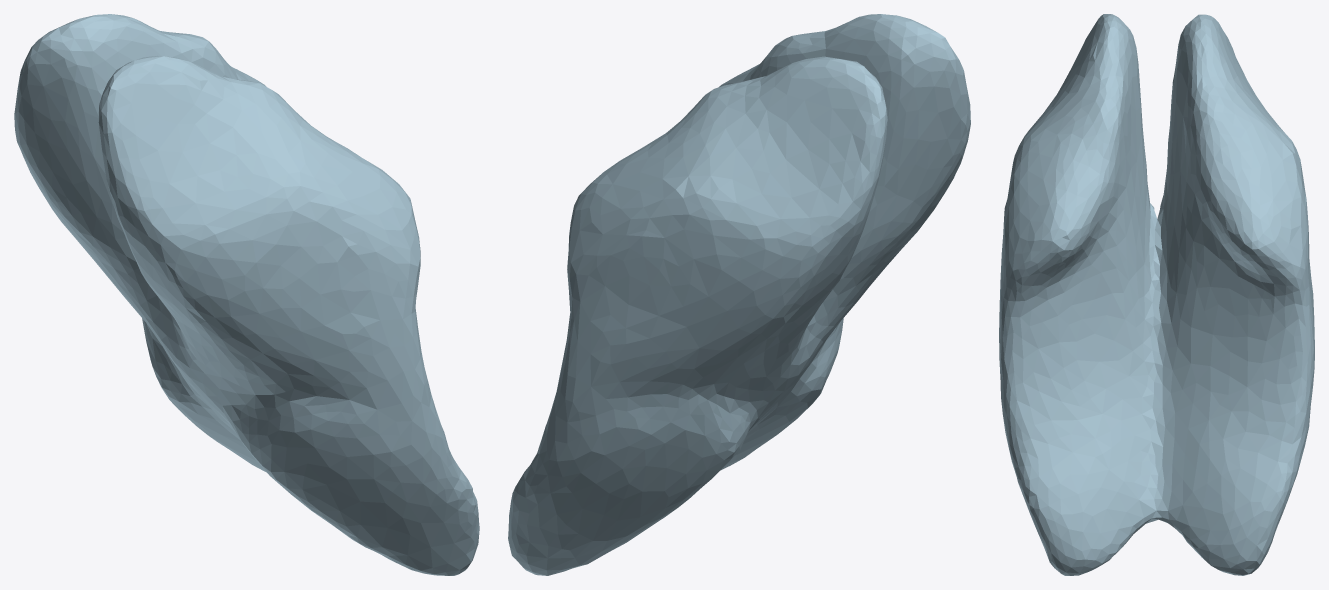
3 renders of one model, left to right at view 1: azimuth 30°, elevation 25°; view 2: azimuth 150°, elevation 25°; view 3: azimuth 270°, elevation 25°, orthographic. The views are drawn at different scales.
Visible parts, largest first — view 1: 242.obj; view 2: 242.obj; view 3: 242.obj.
Part boxes in pixels (left/top/right/bottom): 242.obj: left=14, top=14, right=479, bottom=575; 242.obj: left=508, top=14, right=970, bottom=575; 242.obj: left=999, top=14, right=1314, bottom=575.
Bounding box in the file's own units: 1944 × 2948 × 1892.
